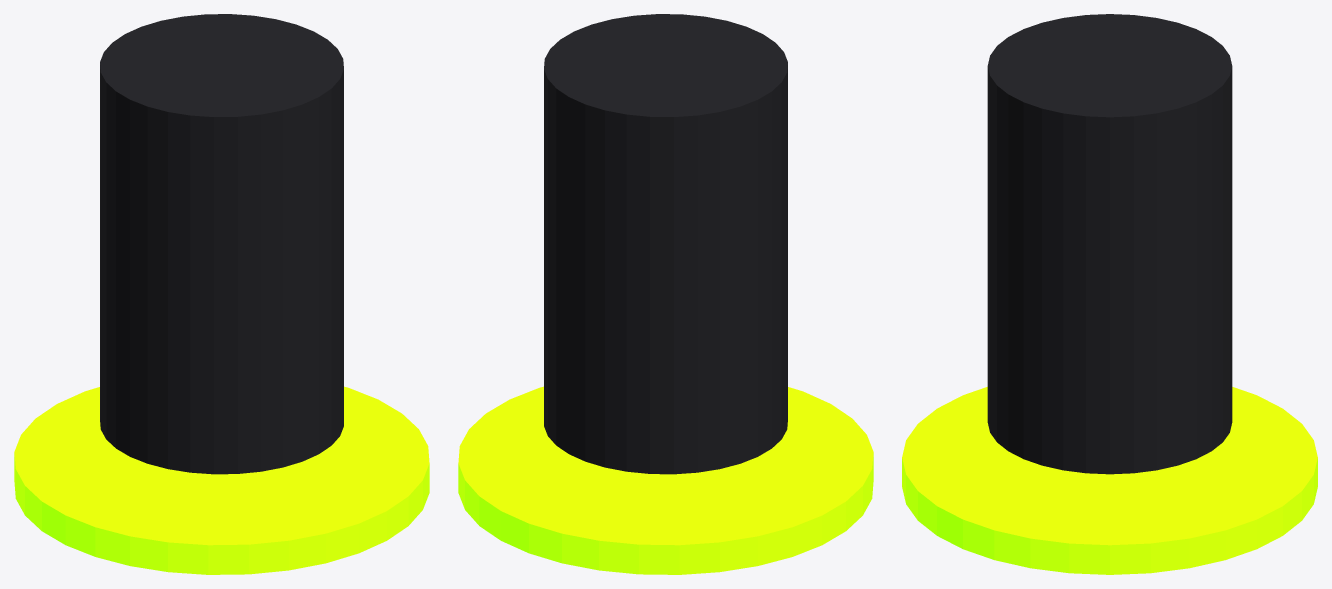
File: tech_smart_speaker.glb
3 renders of one model, left to right at view 1: azimuth 30°, elevation 25°; view 2: azimuth 150°, elevation 25°; view 3: azimuth 270°, elevation 25°, orthographic.
Parts seen in each view (by area): view 1: 08_10_Popular_Tech_Smart_Speaker_part_01, 08_10_Popular_Tech_Smart_Speaker_ROOT_base; view 2: 08_10_Popular_Tech_Smart_Speaker_part_01, 08_10_Popular_Tech_Smart_Speaker_ROOT_base; view 3: 08_10_Popular_Tech_Smart_Speaker_part_01, 08_10_Popular_Tech_Smart_Speaker_ROOT_base.
Boxes of the visible parts, x1,y1,x2,y2 form: 08_10_Popular_Tech_Smart_Speaker_part_01: (100,14,343,474); 08_10_Popular_Tech_Smart_Speaker_ROOT_base: (14,386,429,574); 08_10_Popular_Tech_Smart_Speaker_part_01: (544,14,787,474); 08_10_Popular_Tech_Smart_Speaker_ROOT_base: (458,386,873,574); 08_10_Popular_Tech_Smart_Speaker_part_01: (987,14,1232,474); 08_10_Popular_Tech_Smart_Speaker_ROOT_base: (902,387,1317,574).
Bounding box in the file's own units: 0.76 × 0.85 × 0.76.
